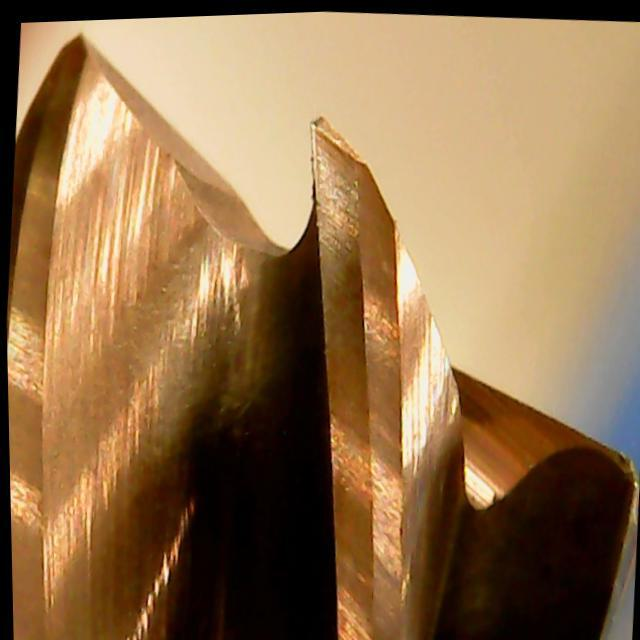Tool-wear-class-1: (290, 109, 394, 376)
